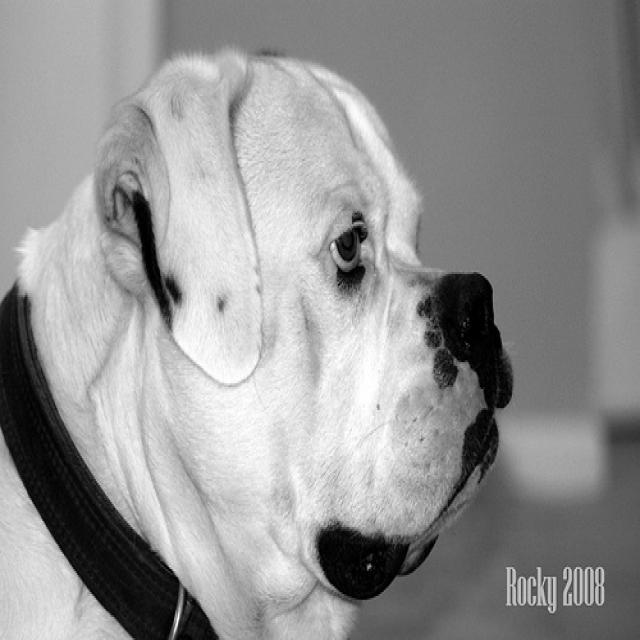dog-american_bulldog: (1, 33, 518, 636)
